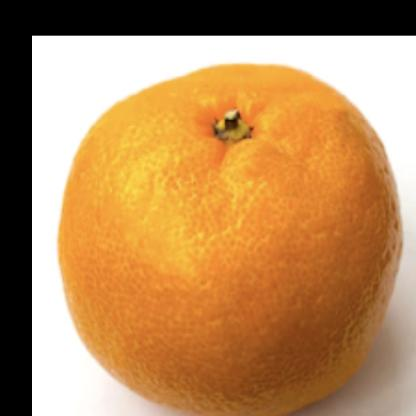fresh: (60, 61, 404, 416)
